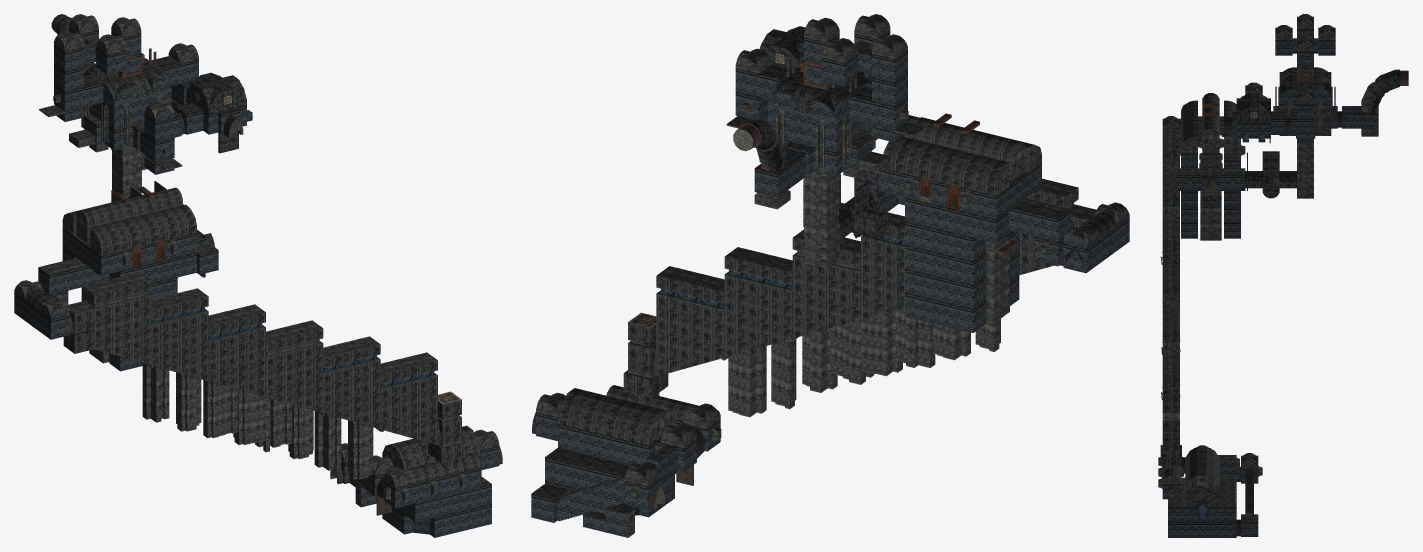
Rendered from Adv11bSecrets.obj.
3 renders of one model, left to right at view 1: azimuth 30°, elevation 25°; view 2: azimuth 150°, elevation 25°; view 3: azimuth 270°, elevation 25°, orthographic. The views are drawn at different scales.
Visible parts, largest first — view 1: Group7, Group8_1, Group6, Group10, Group14, Group23, Group4; view 2: Group8_1, Group7, Group6, Group10, Group14, Group17, Group23; view 3: Group8_1, Group6, Group7, Group14, Group10, Group4, Group23, Group13.
Part boxes in pixels (<box>): Group7: <box>25,56,480,488</box>; Group8_1: <box>16,14,499,506</box>; Group6: <box>14,27,499,537</box>; Group10: <box>14,72,376,507</box>; Group14: <box>56,16,246,277</box>; Group23: <box>151,110,434,387</box>; Group4: <box>70,101,502,498</box>; Group8_1: <box>531,14,1127,537</box>; Group7: <box>558,64,1116,520</box>; Group6: <box>531,29,1129,522</box>; Group10: <box>557,71,1129,537</box>; Group14: <box>656,26,888,442</box>; Group17: <box>547,145,1086,492</box>; Group23: <box>661,236,904,307</box>; Group8_1: <box>1158,14,1378,521</box>; Group6: <box>1162,29,1378,537</box>; Group7: <box>1160,67,1331,486</box>; Group14: <box>1202,69,1399,207</box>; Group10: <box>1163,88,1361,481</box>; Group4: <box>1180,111,1341,536</box>; Group23: <box>1164,133,1265,386</box>; Group13: <box>1302,70,1408,112</box>.
Size of the model in its own units: 6336 by 6464 by 3728.
Materials: 40 (40 with a texture image).
